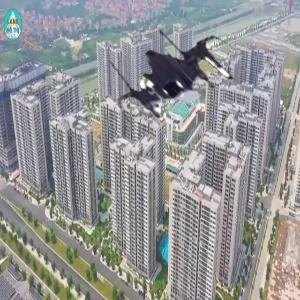drone: (106, 10, 244, 148)
